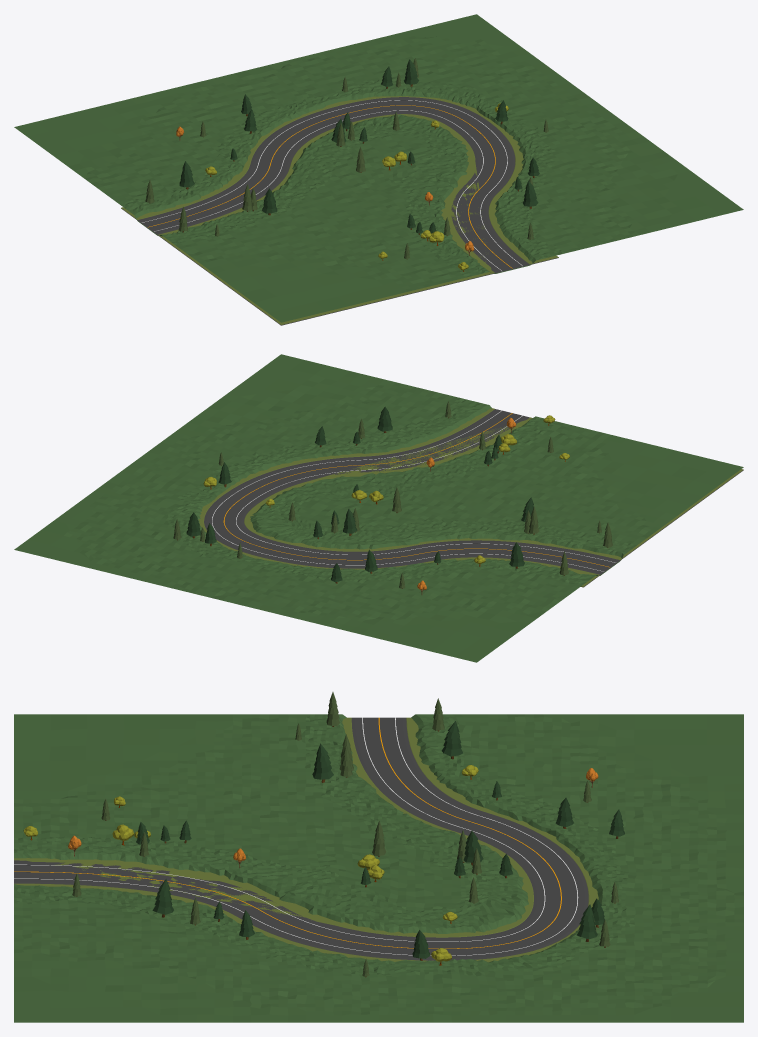
Rendered from ForestRoadRight5.fbx.
3 views of the same model, one above another, from view 1: azimuth 30°, elevation 25°; view 2: azimuth 150°, elevation 25°; view 3: azimuth 270°, elevation 25° (orthographic). The views are drawn at different scales.
Visible parts, largest first — view 1: FRR5Plane, FRR5Road; view 2: FRR5Plane, FRR5Road; view 3: FRR5Plane, FRR5Road.
Boxes of the visible parts, x1,y1,x2,y2 form: FRR5Plane: [14, 14, 743, 322]; FRR5Road: [121, 96, 558, 325]; FRR5Plane: [14, 354, 743, 662]; FRR5Road: [198, 408, 743, 587]; FRR5Plane: [14, 714, 743, 1022]; FRR5Road: [14, 717, 598, 962].
Size of what is drawn, in the model's own units: 40000 by 2658 by 40000.
